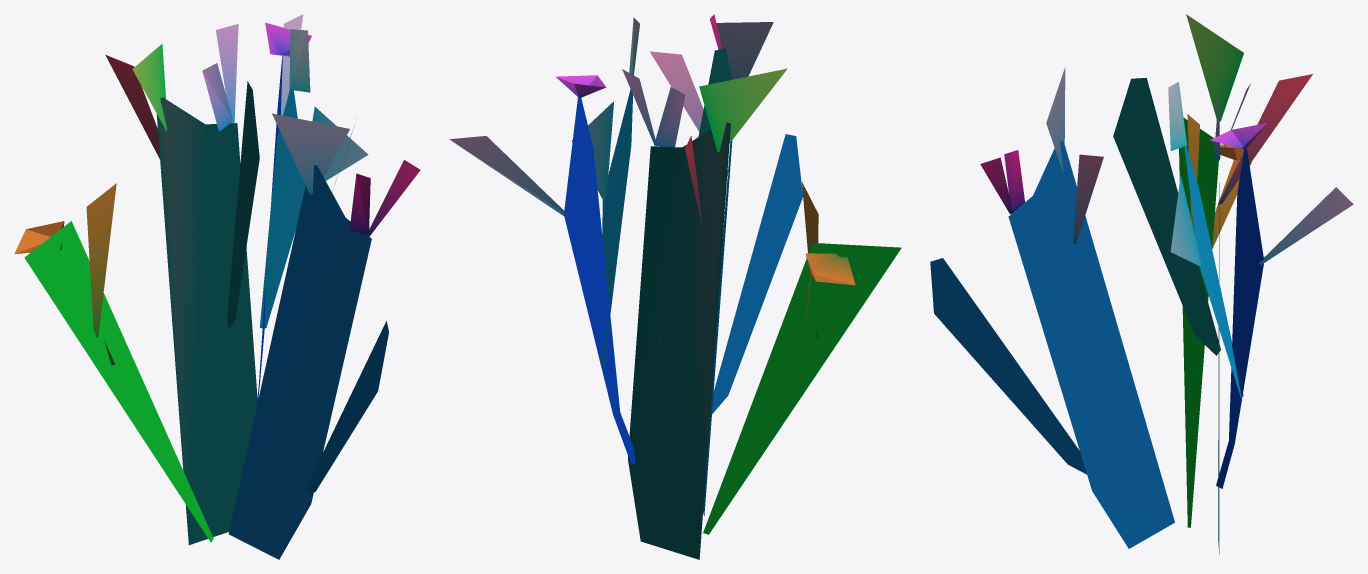
The model's file is Nordic_Coastal_Groundcover_vlqkdeaja_Mid_vlqkdeaja_VarA_LOD2.fbx.
3 views of the same model, side by side, from view 1: azimuth 30°, elevation 25°; view 2: azimuth 150°, elevation 25°; view 3: azimuth 270°, elevation 25° (orthographic). The views are drawn at different scales.
Parts seen in each view (by area): view 1: _6xxq_VarA_LOD4; view 2: _6xxq_VarA_LOD4; view 3: _6xxq_VarA_LOD4.
Part boxes in pixels (box(x1,y1,x2,y2)): _6xxq_VarA_LOD4: box(14, 14, 420, 559); _6xxq_VarA_LOD4: box(449, 14, 901, 559); _6xxq_VarA_LOD4: box(930, 14, 1353, 554).
Size of the model in its own units: 35.16 by 46.41 by 36.12.
